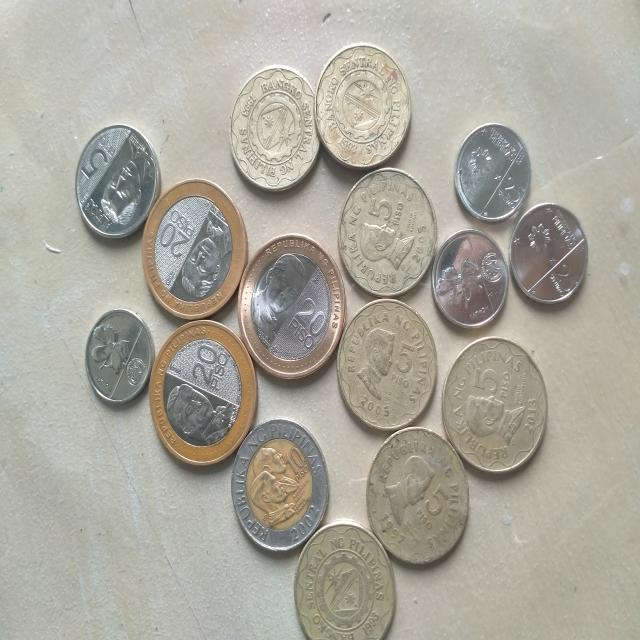10_Old_Front: (282, 447, 310, 484)
20_New_Front: (157, 207, 199, 264), (285, 299, 329, 349), (192, 346, 228, 390)
25Cent_New_Back: (436, 254, 485, 314), (88, 325, 131, 373)
25Cent_New_Front: (547, 259, 580, 296), (496, 171, 526, 208)
5_New_Front: (81, 136, 115, 179)
5_Old_Back: (314, 45, 410, 165), (230, 66, 321, 190)
5_Old_Front: (469, 360, 514, 405), (386, 336, 420, 390), (369, 190, 403, 229)
